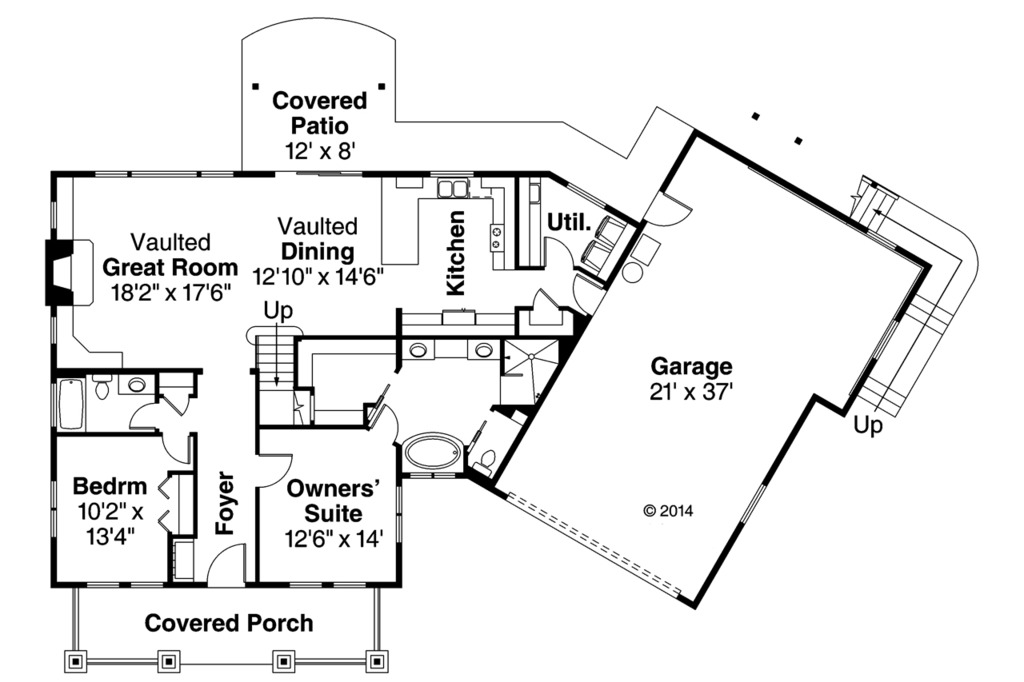door: (200, 535, 253, 587), (640, 186, 693, 233), (566, 271, 611, 313), (365, 399, 406, 444), (254, 453, 301, 491), (523, 289, 568, 320), (124, 402, 165, 432), (158, 434, 196, 464), (161, 391, 197, 418), (543, 235, 573, 267)
large_sink: (469, 435, 500, 479), (90, 370, 114, 405)
small_sink: (397, 435, 464, 473), (406, 342, 496, 362), (108, 364, 155, 396)
stairs: (843, 165, 974, 427), (247, 309, 356, 424)
tub: (55, 373, 91, 434)
twin_sink: (427, 167, 472, 203)
window: (89, 160, 234, 184), (41, 310, 63, 346), (46, 195, 63, 229)
